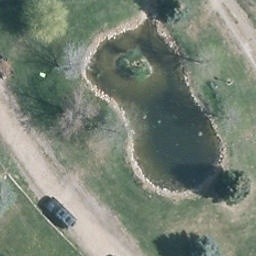car: (41, 196, 79, 230)
